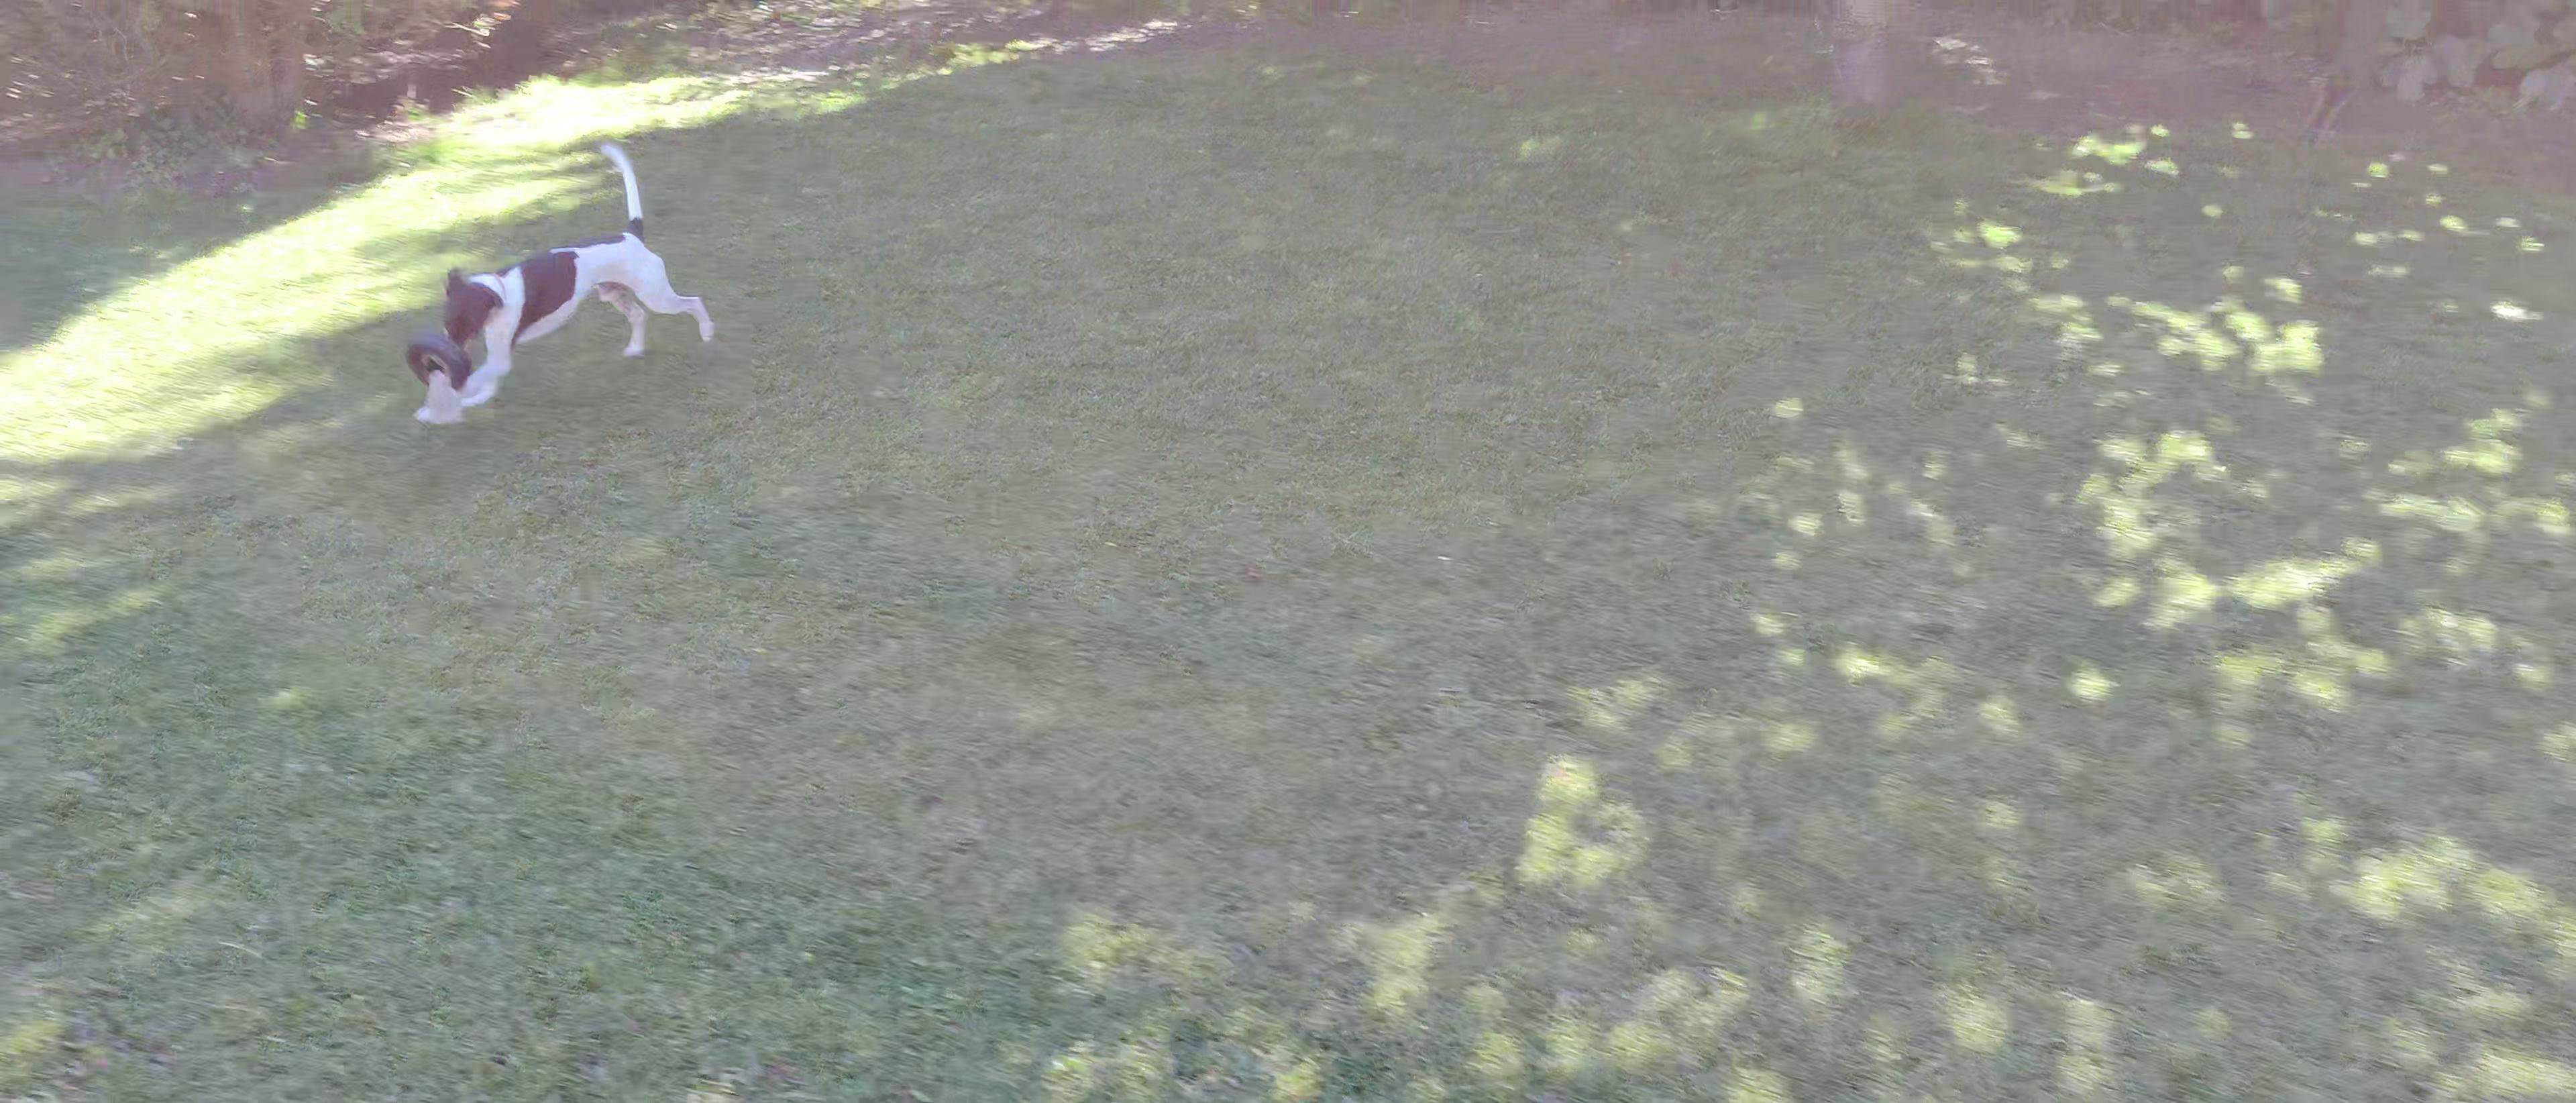Dog: (429, 123, 721, 418)
